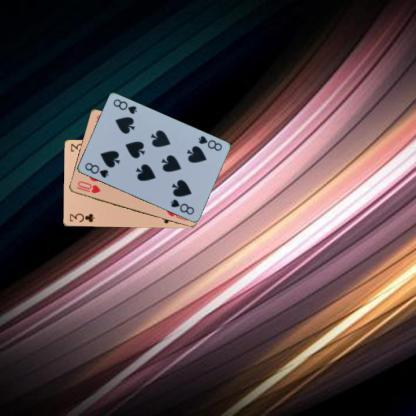10h: (73, 178, 102, 194)
3c: (66, 211, 96, 223)
8s: (82, 160, 110, 179), (196, 133, 223, 152)
